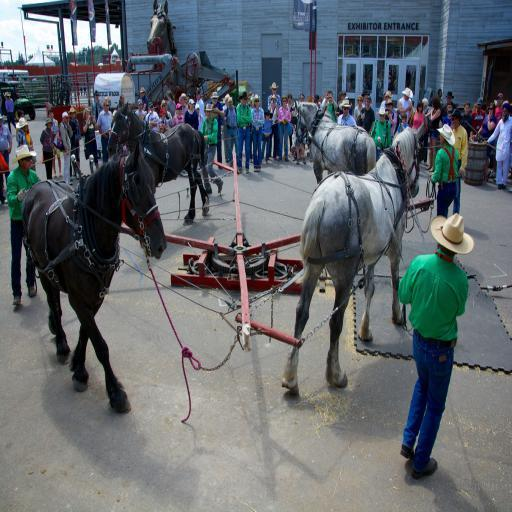horse: (18, 138, 169, 414), (280, 126, 428, 400), (105, 98, 210, 226), (294, 98, 377, 184)
